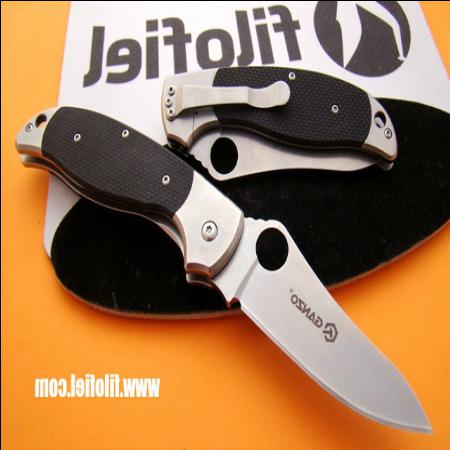long weapon: (199, 204, 444, 439)
